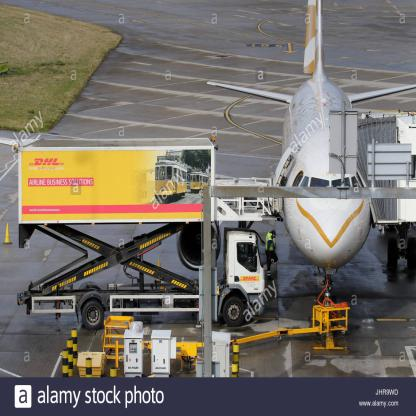Catering truck: (12, 136, 296, 329)
